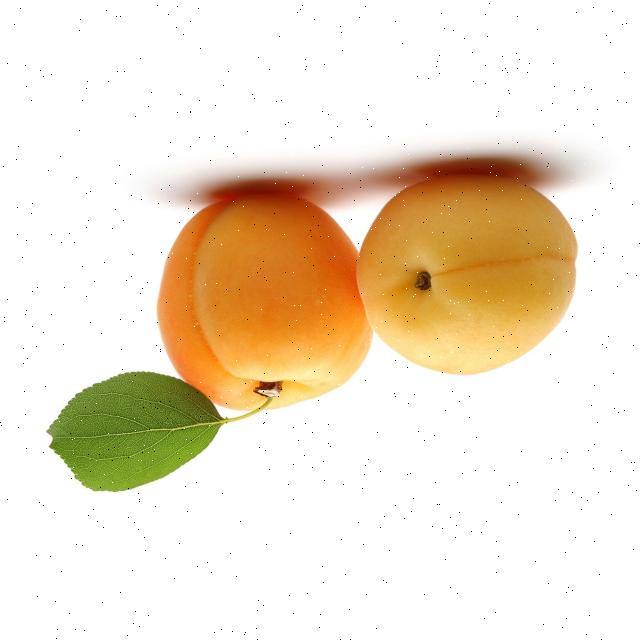kayisi: (355, 155, 581, 382), (154, 189, 366, 413)
kayisi yapragi: (46, 365, 220, 497)
